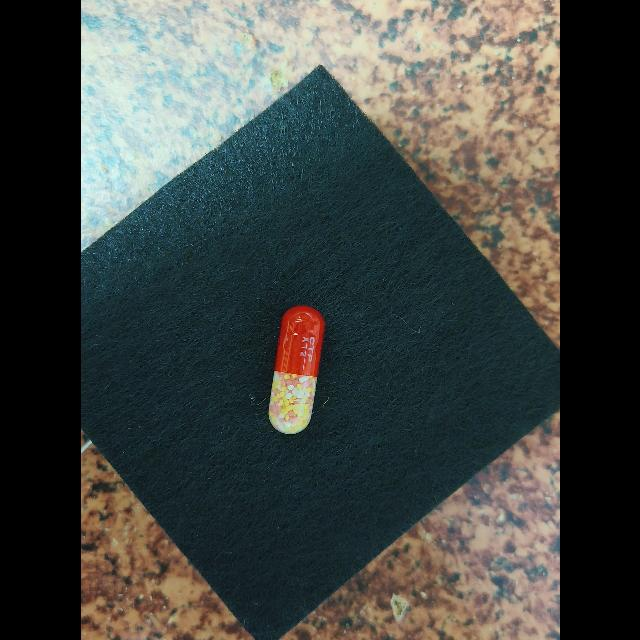Intact Capsule: (268, 305, 324, 434)
